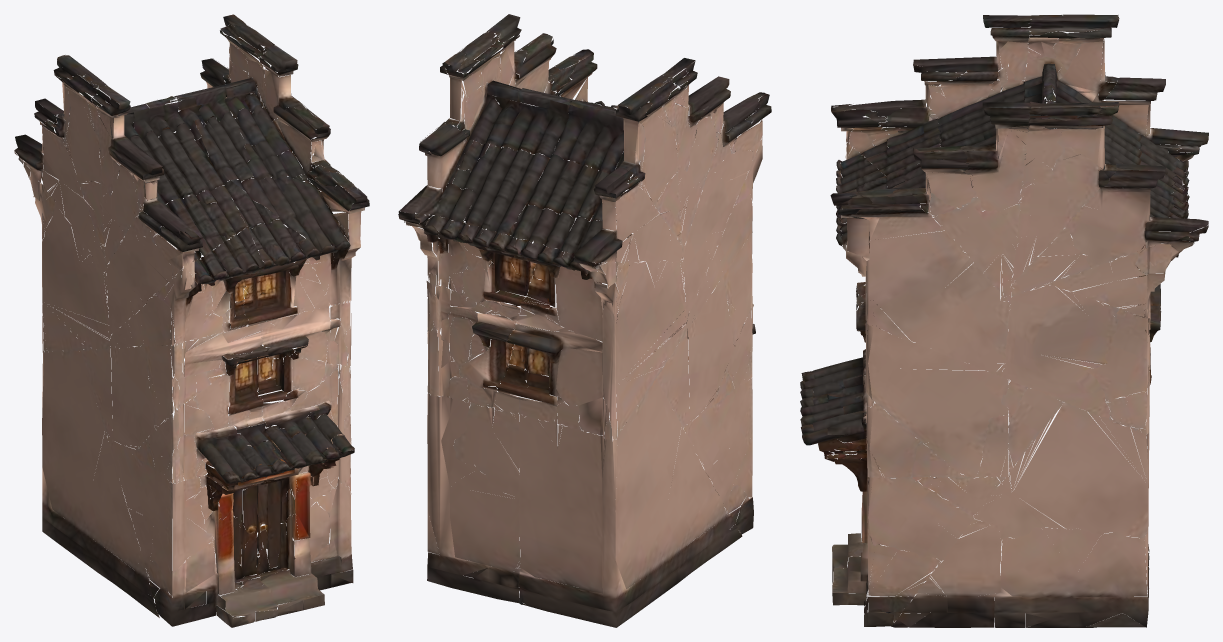
The model's file is house_e_20k.glb.
3 renders of one model, left to right at view 1: azimuth 30°, elevation 25°; view 2: azimuth 150°, elevation 25°; view 3: azimuth 270°, elevation 25°, orthographic. The views are drawn at different scales.
Visible parts, largest first — view 1: tripo_node_f9603d34-b6d4-4fde-a0ba-81afcb214336; view 2: tripo_node_f9603d34-b6d4-4fde-a0ba-81afcb214336; view 3: tripo_node_f9603d34-b6d4-4fde-a0ba-81afcb214336.
Part boxes in pixels (left/top/right/bottom): tripo_node_f9603d34-b6d4-4fde-a0ba-81afcb214336: left=14, top=14, right=369, bottom=627; tripo_node_f9603d34-b6d4-4fde-a0ba-81afcb214336: left=398, top=14, right=771, bottom=627; tripo_node_f9603d34-b6d4-4fde-a0ba-81afcb214336: left=800, top=14, right=1208, bottom=627.
Bounding box in the file's own units: 0.406 × 0.9816 × 0.6963.
Materials: 1 (1 with a texture image).
